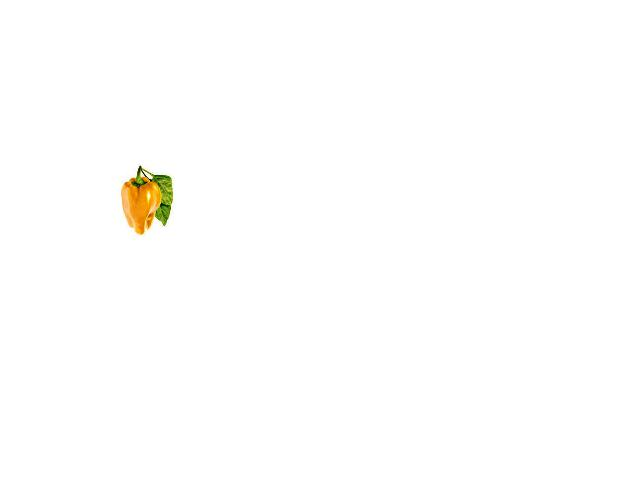bell_pepper: (117, 164, 162, 236)
